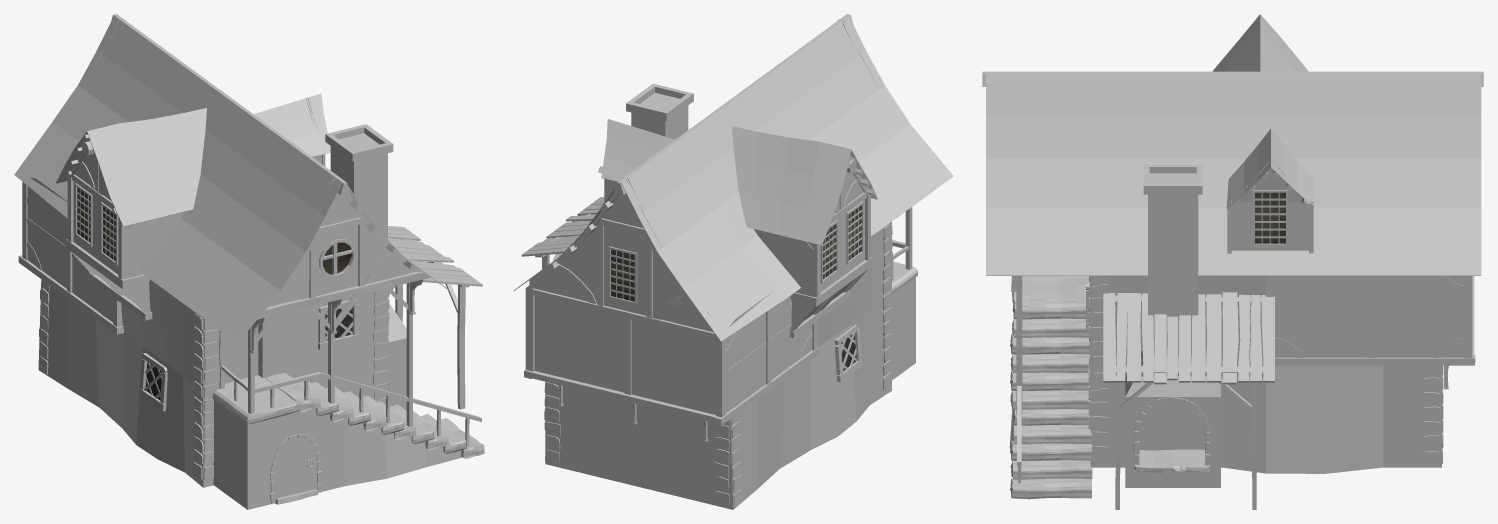
Rendered from blacksmith_house.fbx.
3 renders of one model, left to right at view 1: azimuth 30°, elevation 25°; view 2: azimuth 150°, elevation 25°; view 3: azimuth 270°, elevation 25°, orthographic. The views are drawn at different scales.
Parts seen in each view (by area): view 1: blacksmith_house; view 2: blacksmith_house; view 3: blacksmith_house.
Part boxes in pixels (x1,y1,x2,y2): blacksmith_house: (14, 14, 484, 509); blacksmith_house: (513, 14, 953, 509); blacksmith_house: (982, 14, 1483, 509).
Size of the model in its own units: 9.68 by 9 by 11.82.
